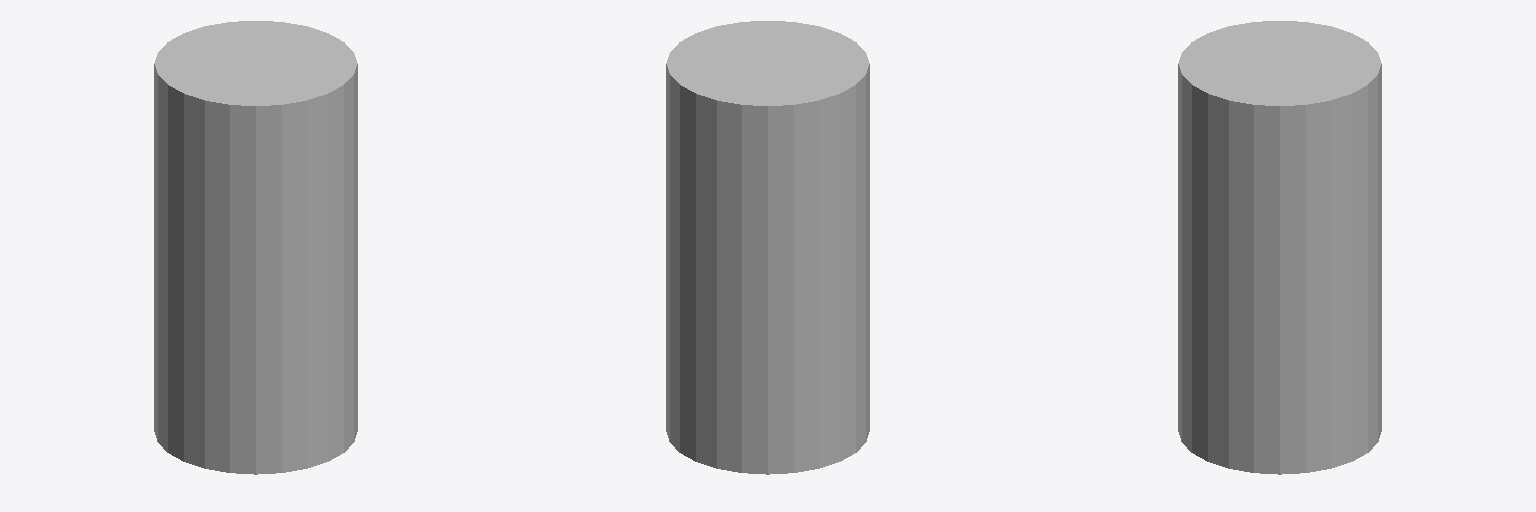
File: fusion core (2).obj
3 renders of one model, left to right at view 1: azimuth 30°, elevation 25°; view 2: azimuth 150°, elevation 25°; view 3: azimuth 270°, elevation 25°, orthographic.
Visible parts, largest first — view 1: SketchUp.008_ID65, SketchUp.001_ID15, SketchUp_ID2; view 2: SketchUp.008_ID65, SketchUp.001_ID15, SketchUp_ID2; view 3: SketchUp.008_ID65, SketchUp.001_ID15, SketchUp_ID2.
Part boxes in pixels (bbox=[...]): SketchUp.008_ID65: bbox=[154, 110, 357, 428]; SketchUp.001_ID15: bbox=[154, 21, 357, 151]; SketchUp_ID2: bbox=[154, 386, 357, 474]; SketchUp.008_ID65: bbox=[666, 110, 869, 428]; SketchUp.001_ID15: bbox=[666, 21, 869, 151]; SketchUp_ID2: bbox=[666, 386, 869, 474]; SketchUp.008_ID65: bbox=[1178, 110, 1381, 428]; SketchUp.001_ID15: bbox=[1178, 21, 1381, 151]; SketchUp_ID2: bbox=[1178, 386, 1381, 474].
Bounding box in the file's own units: 19.68 × 41.18 × 19.68.